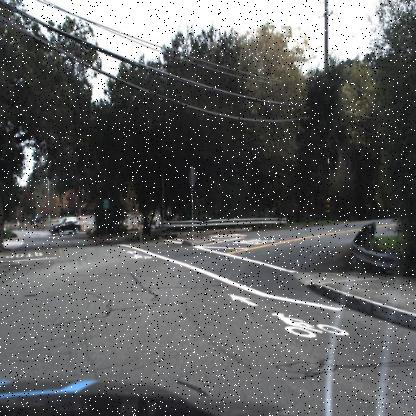car: (46, 214, 82, 240)
